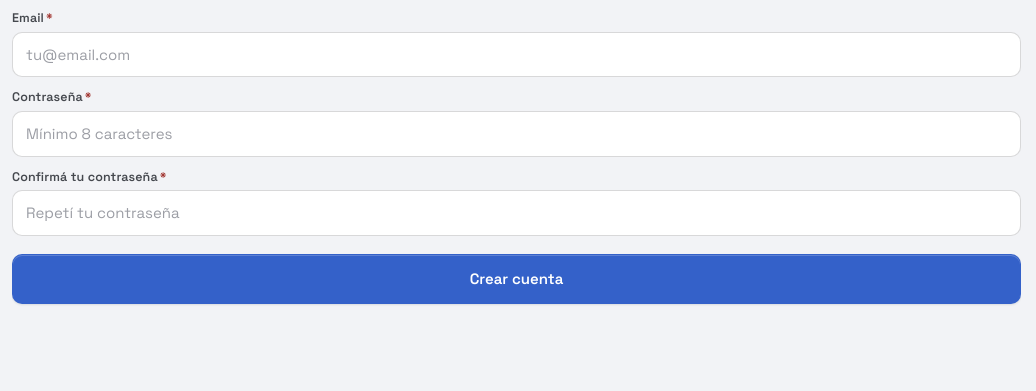
Scenario: RegisterForm › muestra error en el campo email si el email está en uso (409)
The width and height of the screenshot is (1036, 391).
Type "taken@example.com" into the field labelled "Email*". click: (516, 54)
box: [12,32,1021,77]
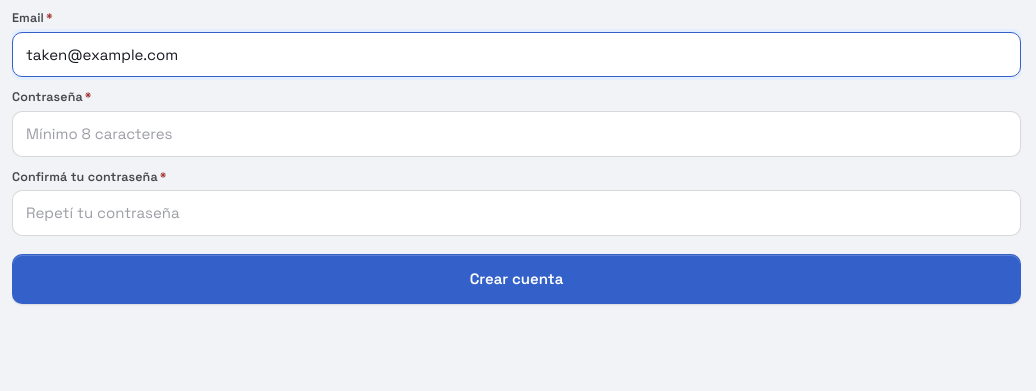
Type "password123" into the password field labelled "Contraseña*". click: (516, 134)
box: [12,111,1021,157]
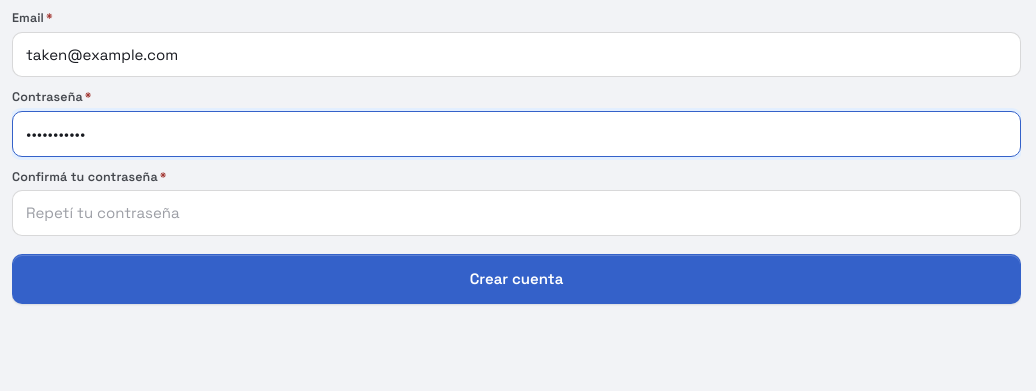
Type "password123" into the password field labelled "Confirmá tu contraseña*". click: (516, 213)
box: [12,190,1021,236]
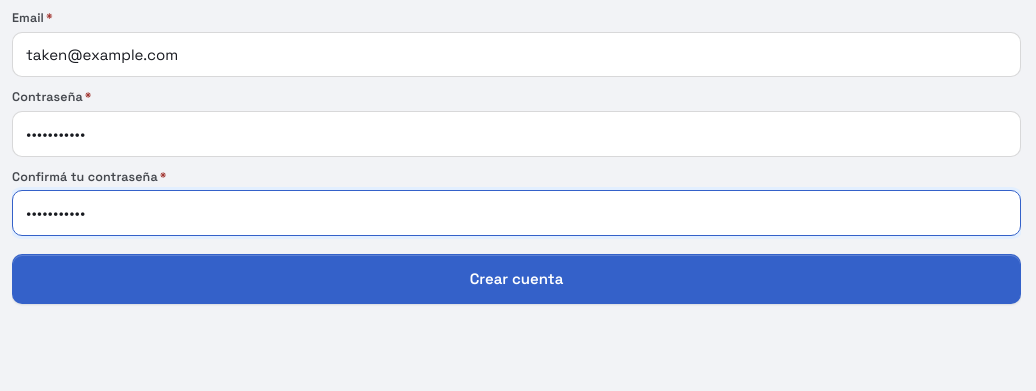
Click the button "Crear cuenta". click: (516, 279)
box: [12,254,1021,304]
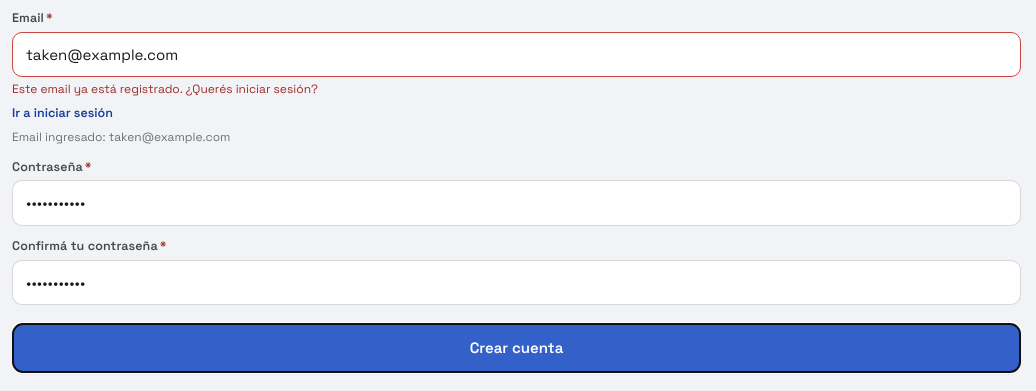
expect the text "Este email ya está registrado. ¿Querés iniciar sesión?" is shown: met, box [12,81,318,97]
